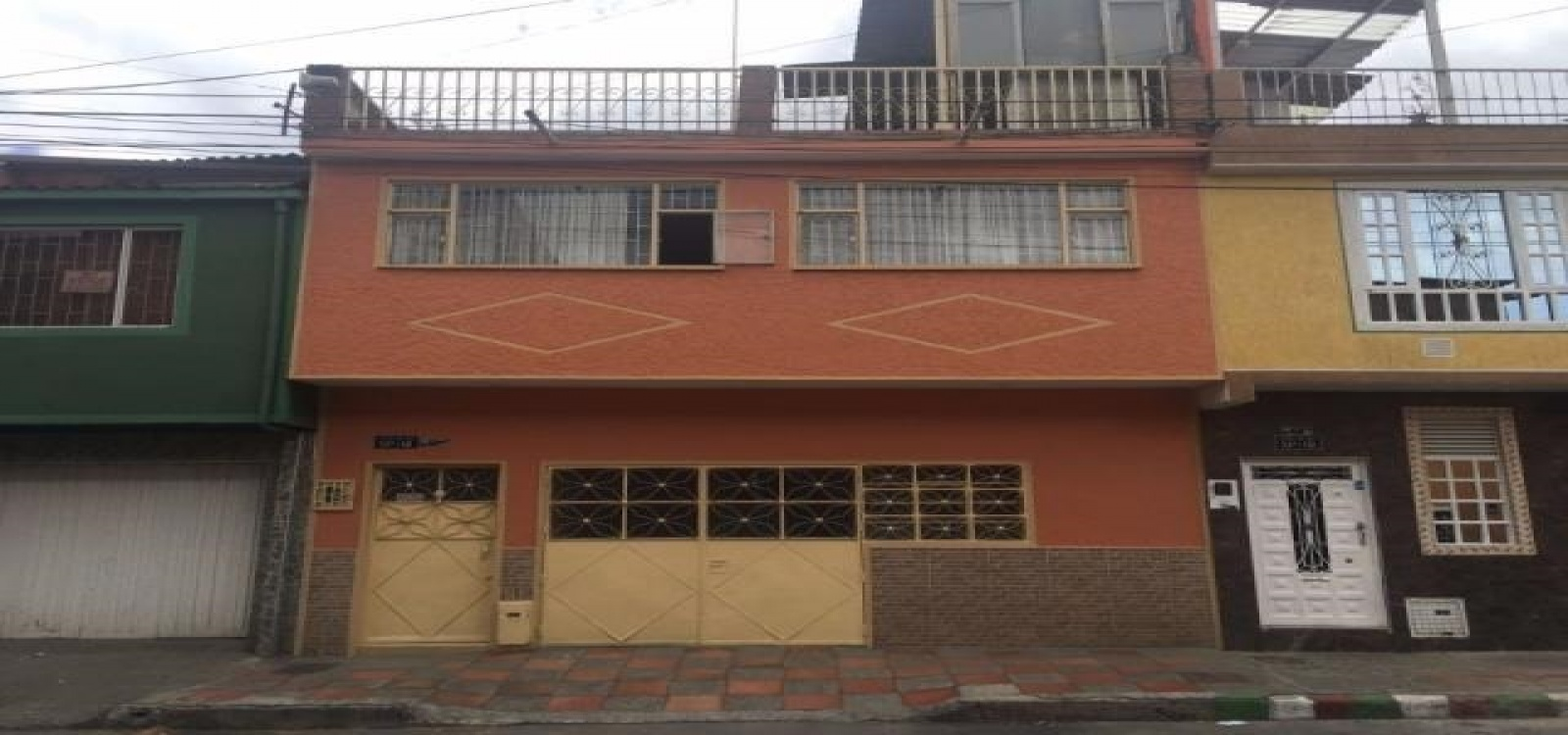House: (299, 32, 1229, 655), (1211, 67, 1561, 650), (5, 140, 289, 647)
